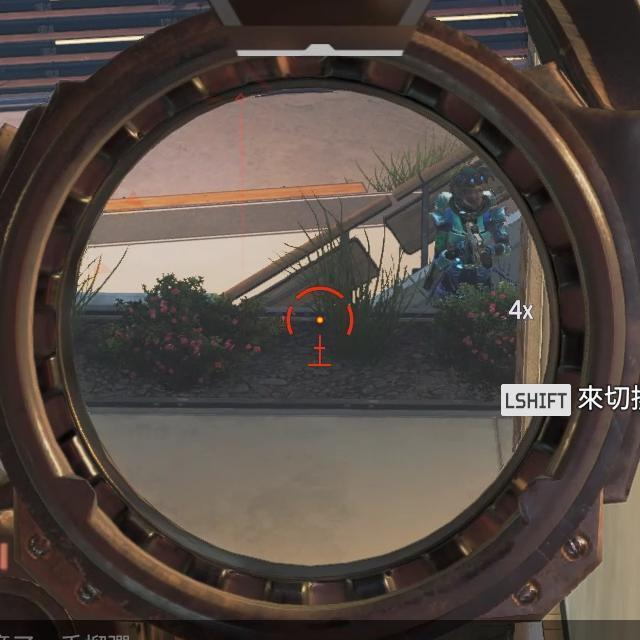avatar: (427, 163, 512, 299)
